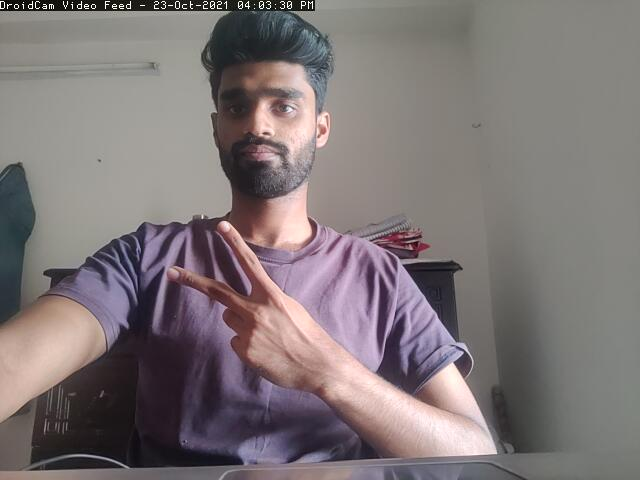Victory: (165, 218, 342, 395)
